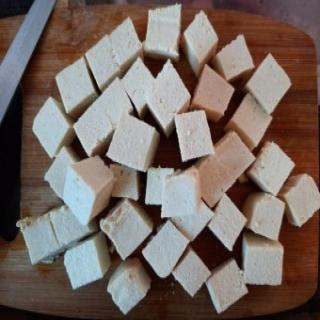Tahu: (20, 3, 320, 317)
